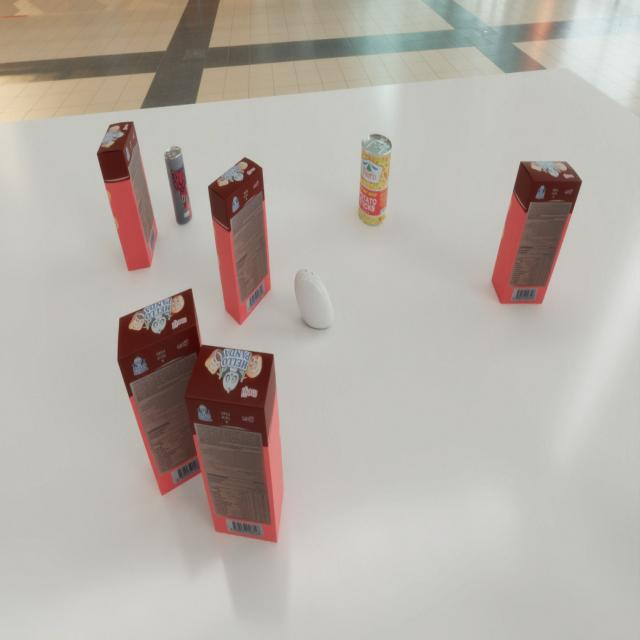HelloPanda: (117, 288, 222, 496), (184, 345, 284, 542), (492, 162, 582, 304), (208, 157, 271, 325), (96, 122, 158, 271)
Potato_sticks: (358, 134, 392, 226)
Rita_zero_sugar: (164, 146, 192, 225)
Salt: (294, 268, 334, 329)
